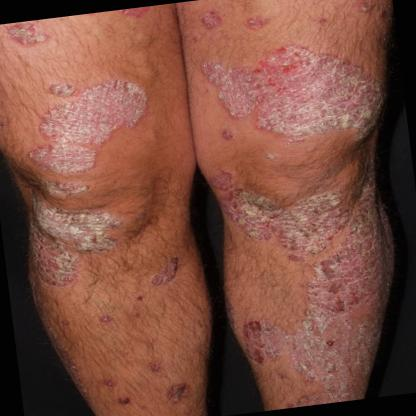Psoriasis: (238, 182, 409, 411), (198, 30, 389, 155), (24, 66, 156, 178), (218, 170, 358, 260), (23, 186, 128, 260), (26, 217, 73, 292), (10, 18, 51, 46)
